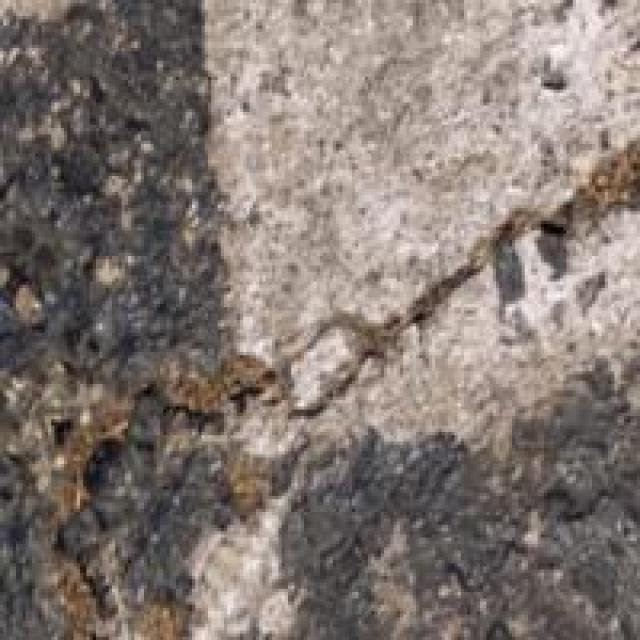Crack: (109, 173, 637, 419)
